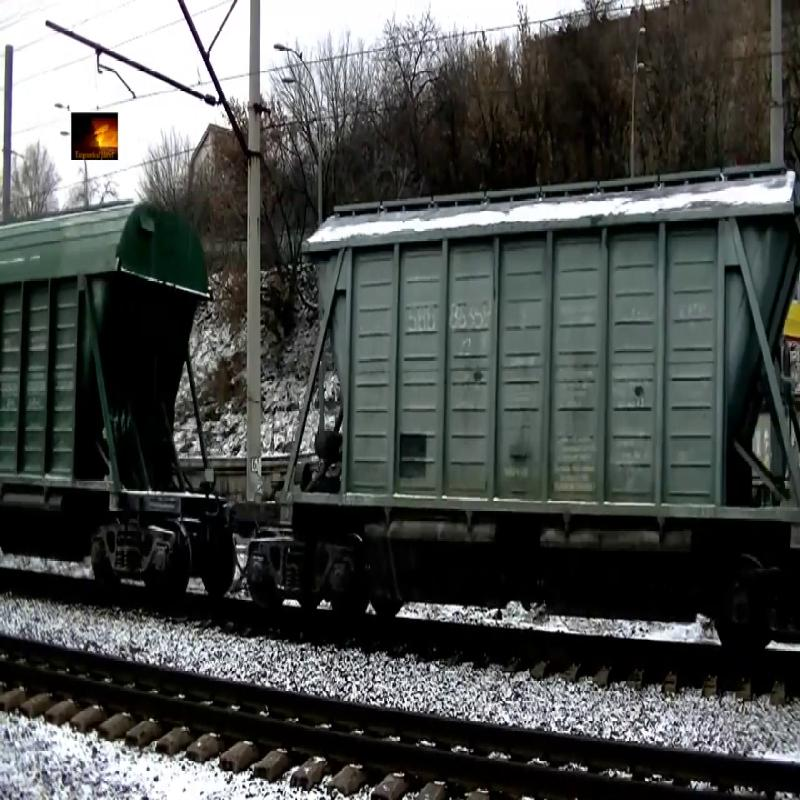train: (273, 153, 800, 572), (1, 197, 215, 541)
